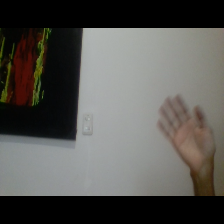left: (144, 87, 224, 169)
